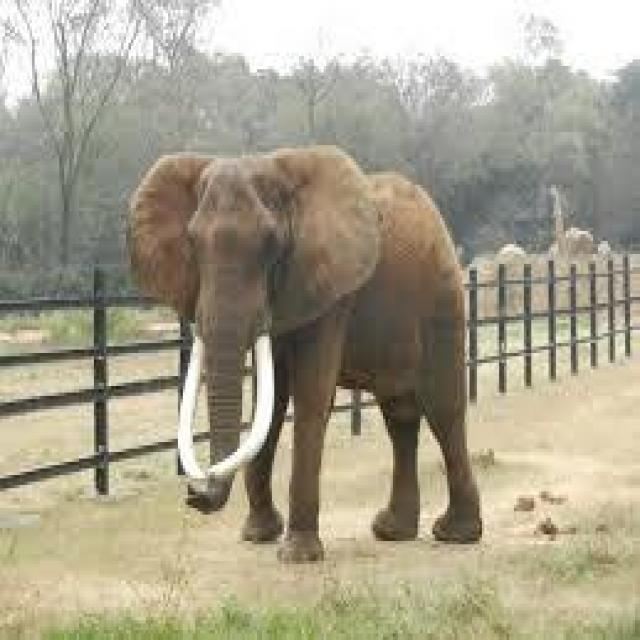Elephant: (123, 145, 484, 558)
